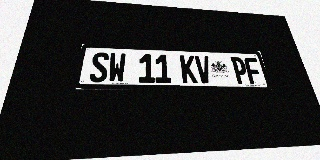1: (138, 54, 155, 83), (154, 54, 171, 83)
F: (243, 57, 263, 84)
K: (180, 55, 198, 83)
P: (230, 57, 250, 84)
S: (89, 52, 109, 82)
V: (194, 56, 213, 83)
W: (108, 53, 126, 83)
